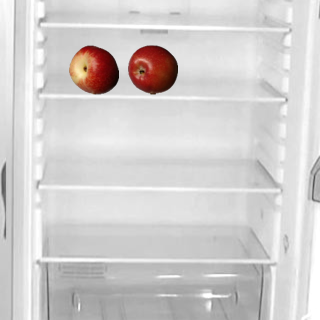Apple Braeburn: (127, 44, 177, 94)
Nectarine: (68, 44, 118, 94)
